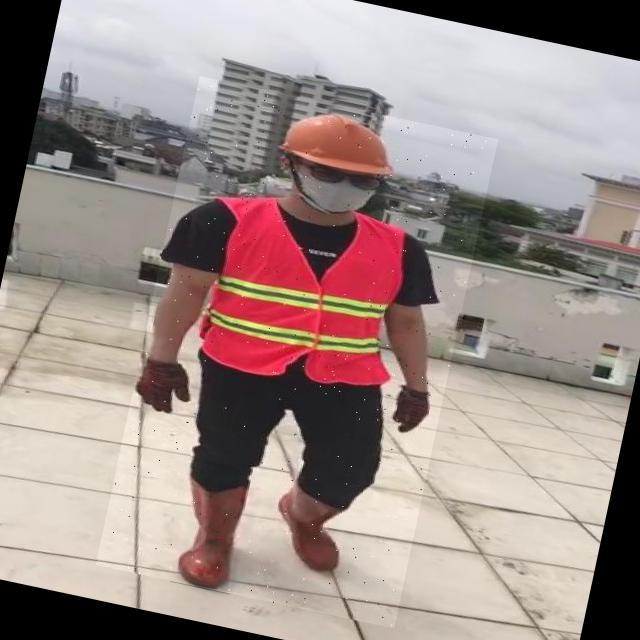Gloves: (132, 357, 199, 418), (389, 384, 438, 438)
Helmet: (273, 101, 414, 183)
Human: (96, 76, 499, 629)
Safety Boot: (170, 475, 253, 595), (268, 479, 362, 577)
Safety Vest: (196, 190, 416, 395)
